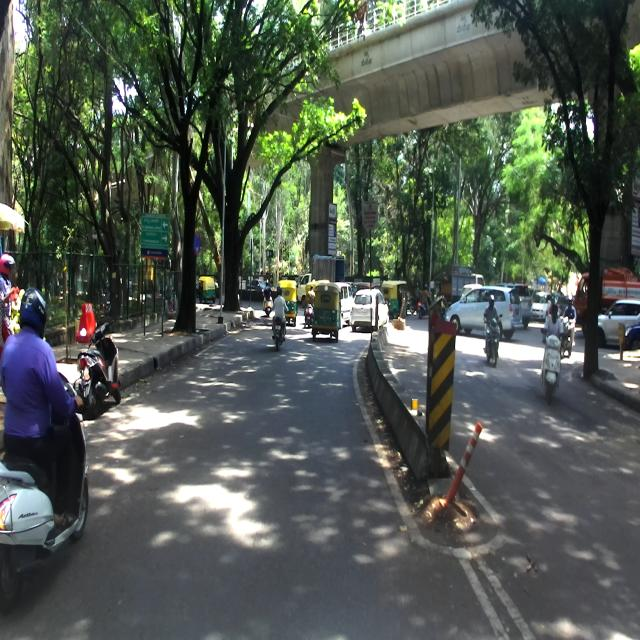barrier ahead at: (425, 309, 456, 456), (442, 418, 486, 508)
motorcycle ahead at: (0, 420, 93, 592), (77, 318, 124, 414)
sign board ahead at: (140, 206, 172, 276)
tree ahead at: (164, 107, 211, 344), (217, 149, 250, 312)
